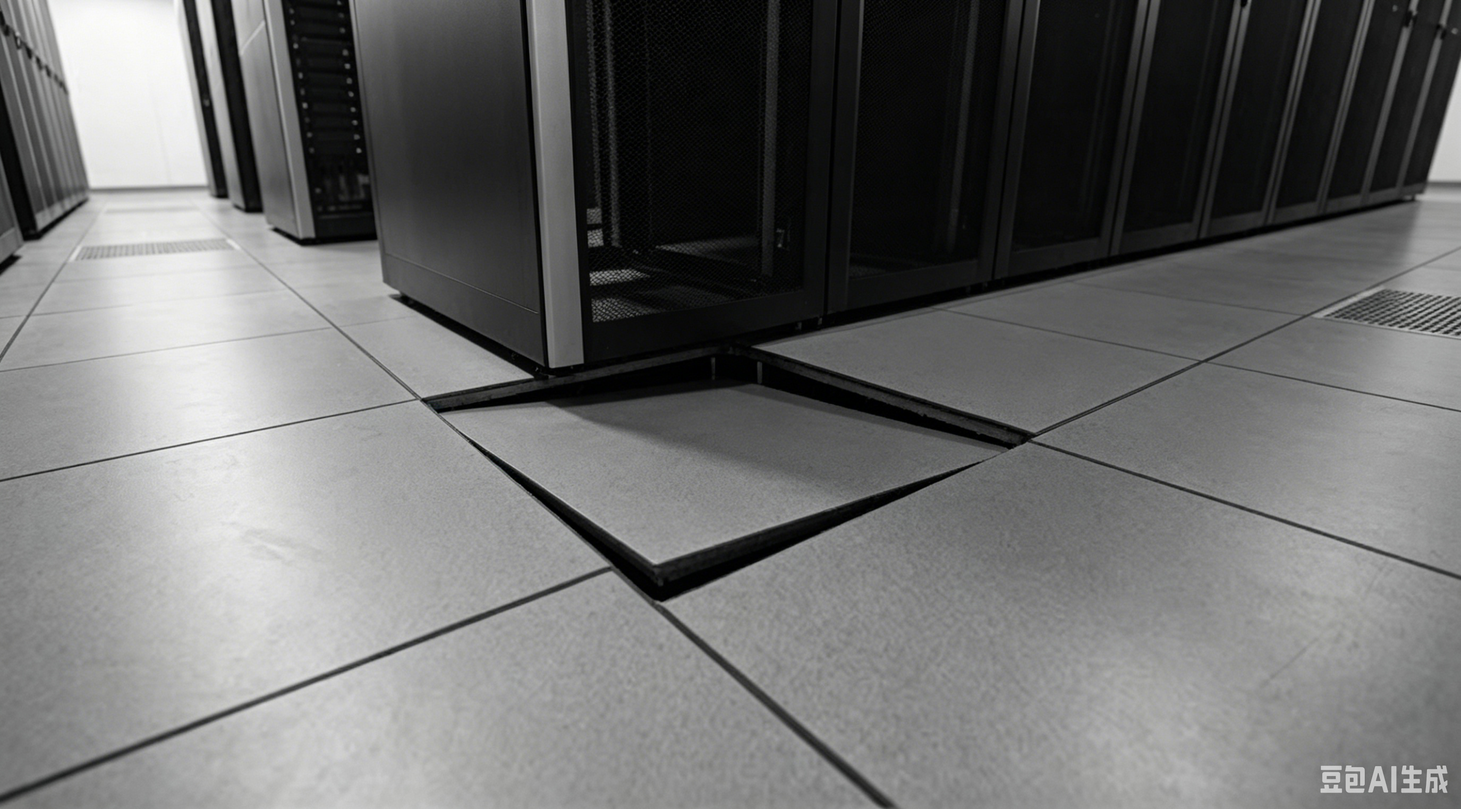floor_defect: (412, 353, 1037, 611)
